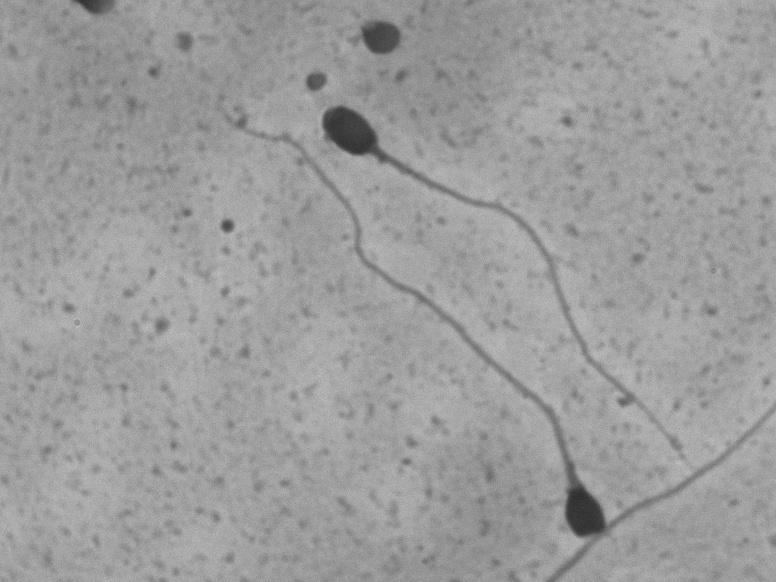Normal: (209, 100, 640, 540), (305, 91, 704, 478)
